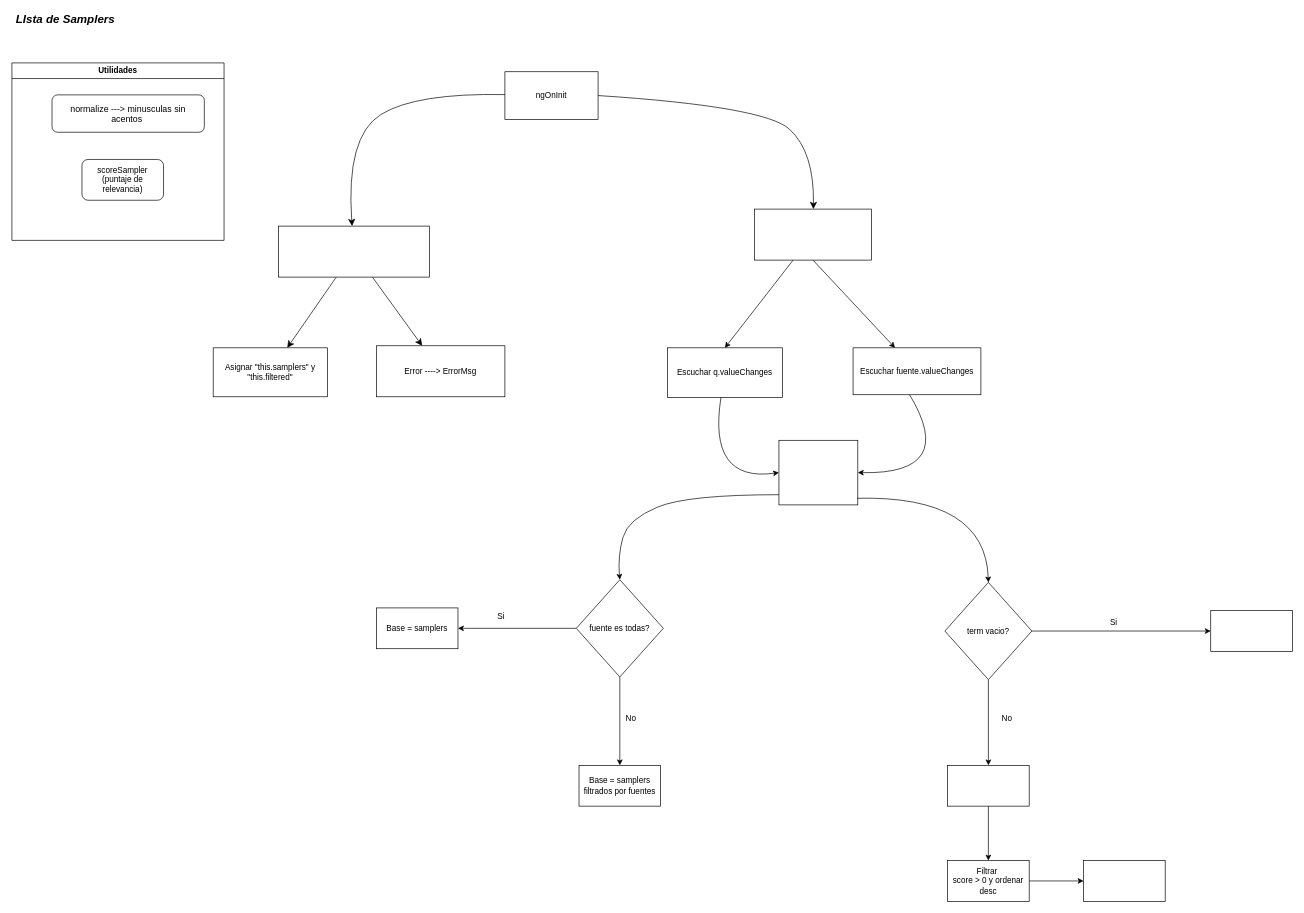
This 1304x913 diagram has some shape labels left out. The shapes that lost their labels are listed below. From the top down, each one's centre as x and y in pixels, then its label:
At [353,251]: "Cargar datos del servicio".
At [812,234]: "Configurar Formularios".
At [818,472]: "applyFilter".
At [1251,630]: "Filtered = base".
At [988,785]: "Calcula score: titulo x3 - artista x2 - fuente/desc x1".
At [1124,880]: "filtered = resultado".
